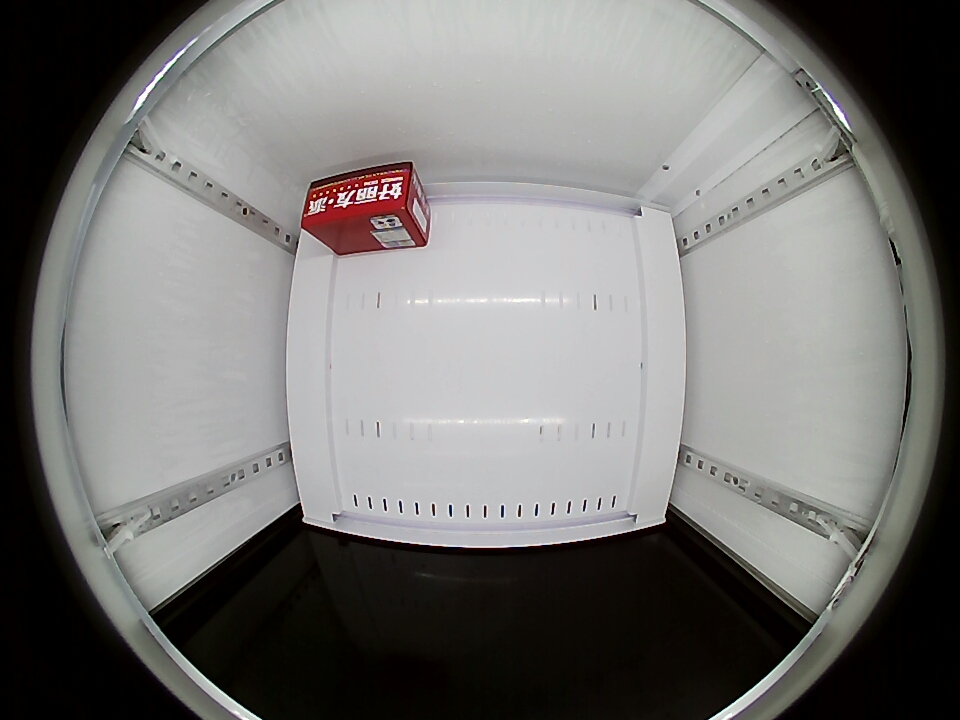haoliyou: (302, 161, 426, 250)
